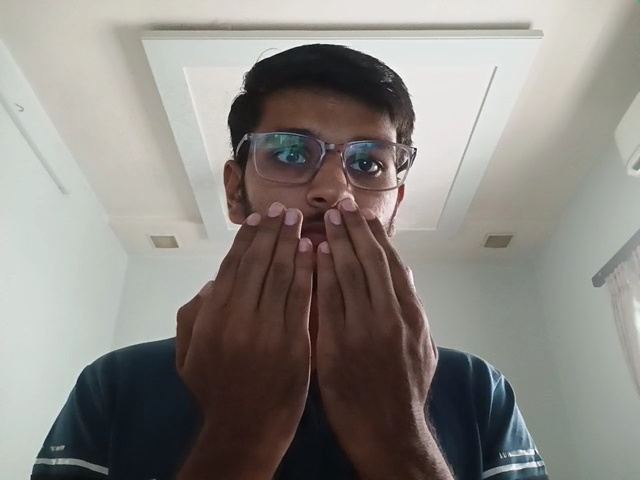Thank You: (165, 198, 452, 439)
